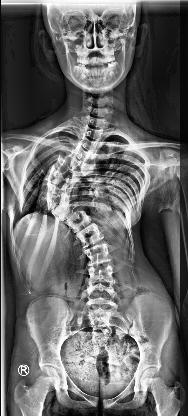Vertebrae: (75, 224, 107, 248), (81, 244, 113, 266), (64, 211, 92, 233), (86, 284, 116, 300), (89, 266, 115, 282), (48, 171, 72, 187), (50, 204, 74, 220), (83, 124, 105, 140), (53, 160, 75, 176), (63, 152, 82, 170), (46, 184, 70, 198), (86, 114, 110, 128), (79, 138, 101, 152), (70, 146, 92, 160), (46, 196, 68, 206)
